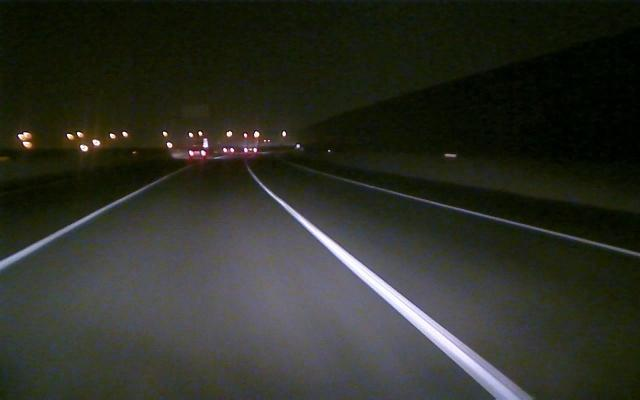lane: (256, 181, 530, 399), (360, 182, 640, 258), (0, 181, 158, 272)
